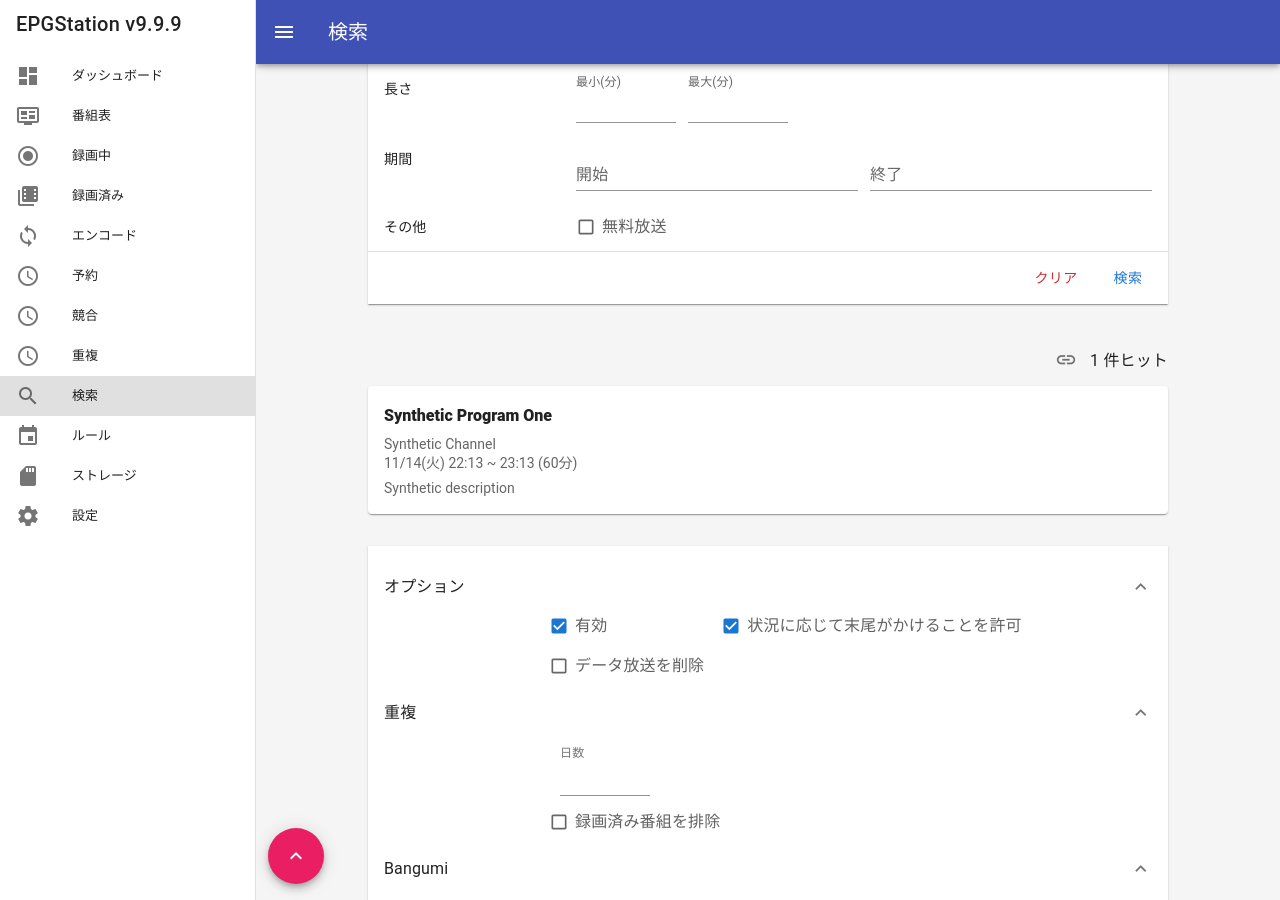
Test: Search route lifecycle › [AC 2.7] unlocks an overlapping reservation from a search result ProgramDialog
(page scrolled)
Click the button "Synthetic Program One" at (468, 416), box [368,386,1168,514]
(page scrolled)
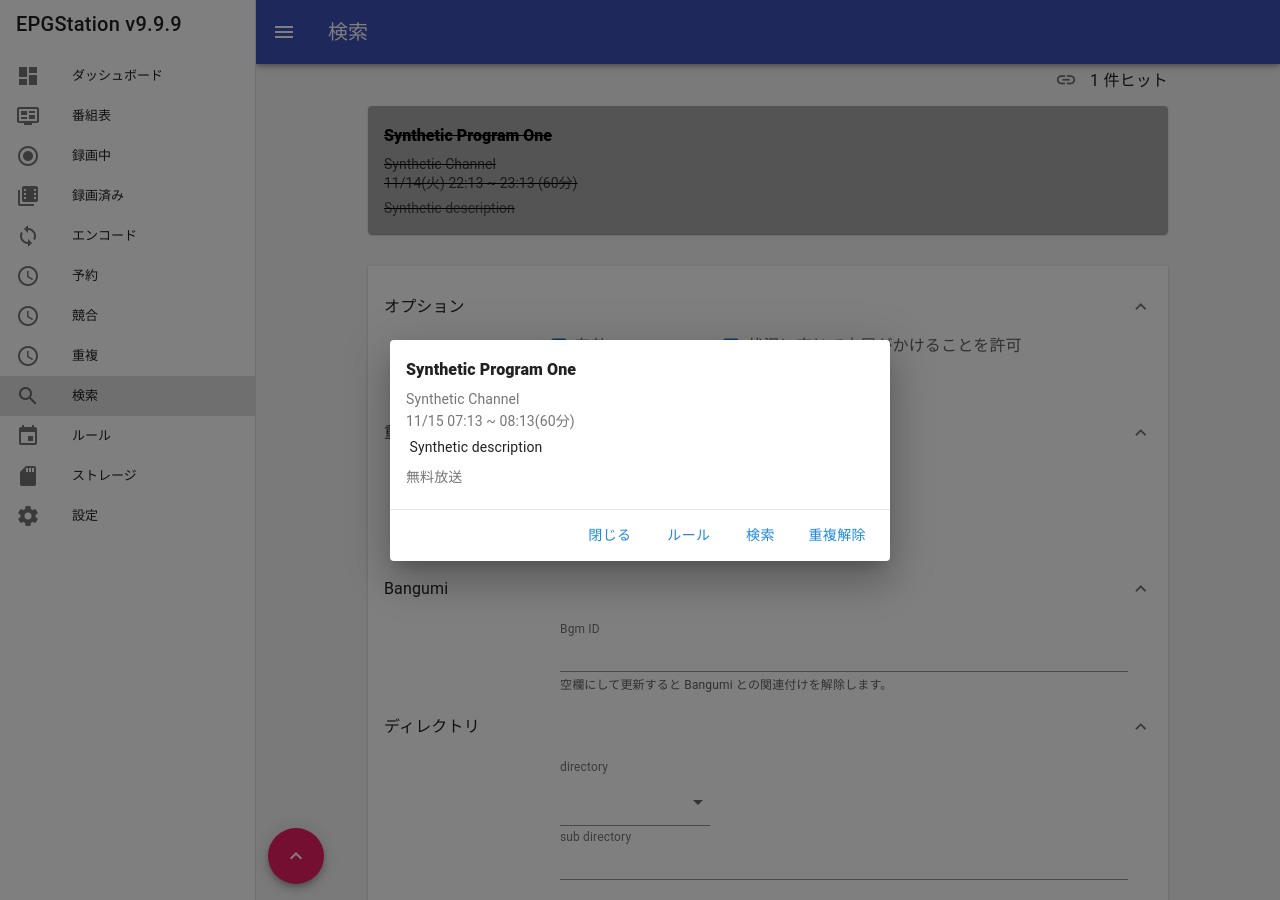
Click the button "重複解除" at (837, 536), box [792,518,882,554]
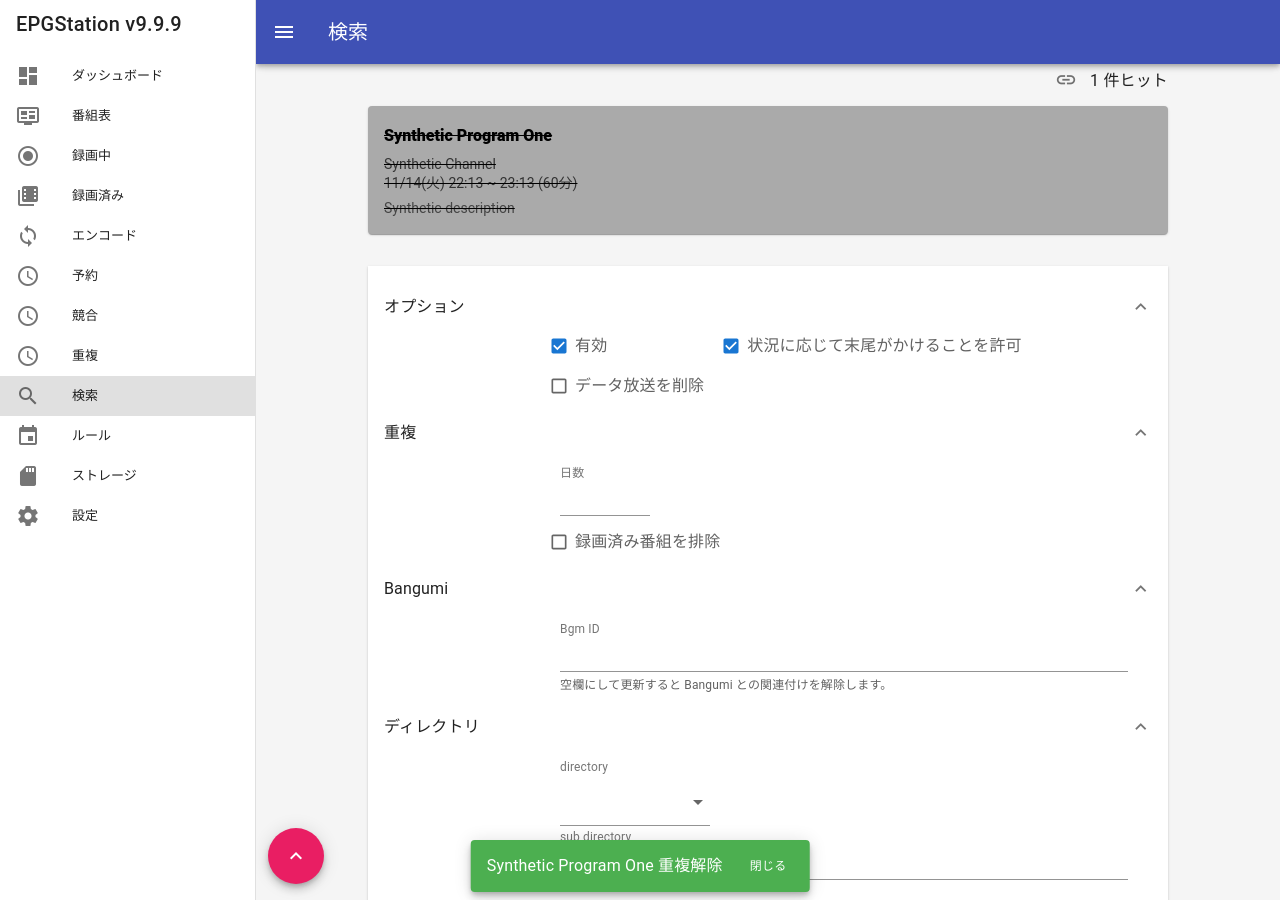
Now the text "Synthetic Program One 重複解除" is shown, box [487,856,723,875]
